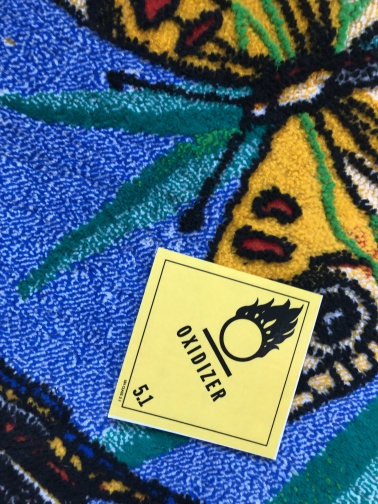Oxidizer: (109, 247, 325, 459)
